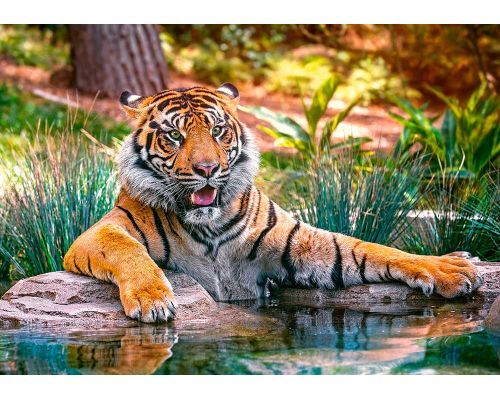Tigrew: (82, 72, 479, 322)
